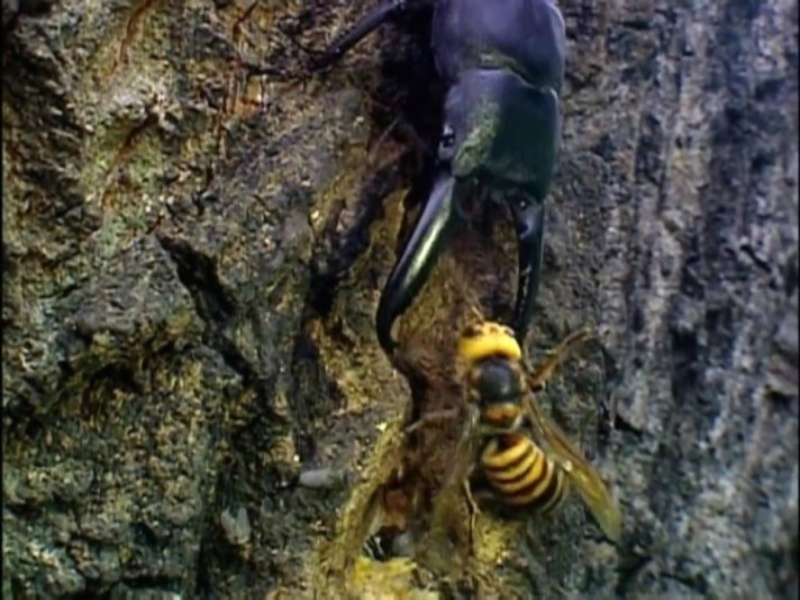asian_giant_hornet: (428, 291, 621, 514)
